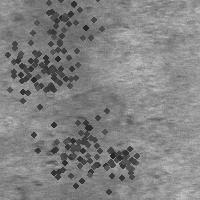rolled-in_scale: (27, 97, 125, 195), (0, 15, 92, 115), (14, 0, 112, 62), (15, 120, 81, 192), (93, 132, 147, 186)
